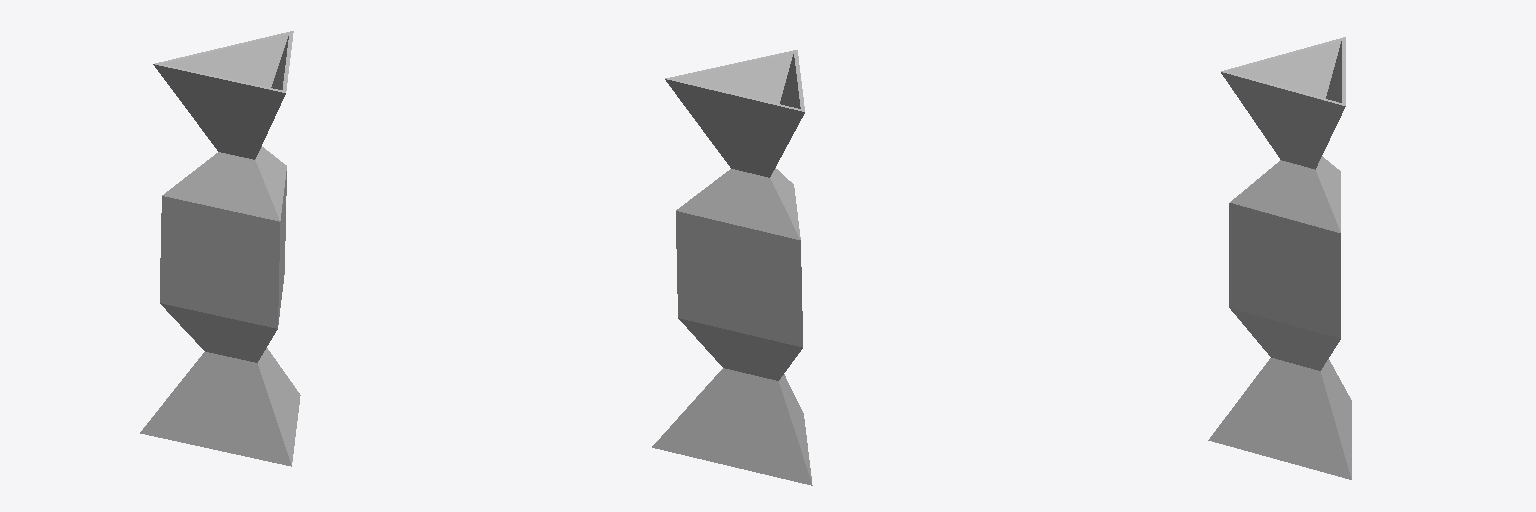
Rendered from candy3x.obj.
3 renders of one model, left to right at view 1: azimuth 30°, elevation 25°; view 2: azimuth 150°, elevation 25°; view 3: azimuth 270°, elevation 25°, orthographic.
Visible parts, largest first — view 1: Plane; view 2: Plane; view 3: Plane.
Part boxes in pixels (left/top/right/bottom): Plane: left=140, top=31, right=300, bottom=466; Plane: left=652, top=50, right=812, bottom=485; Plane: left=1208, top=37, right=1351, bottom=479.
Bounding box in the file's own units: 2.01 × 4.4 × 1.55.